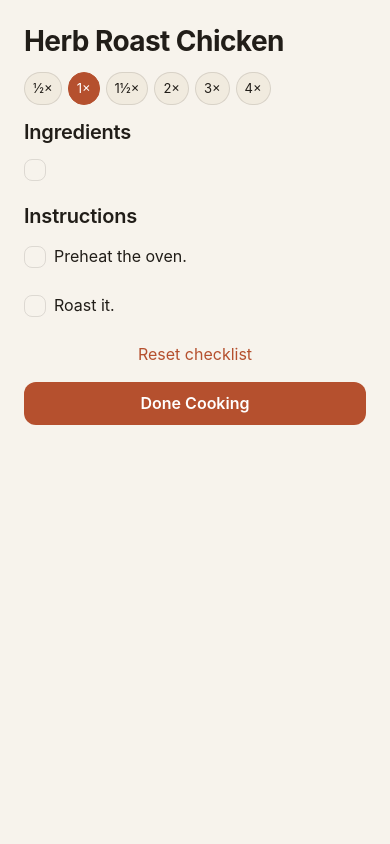
CookingModeScreen › Done Cooking › tapping Done Cooking opens the confirmation sheet rather than completing immediately
The image size is (390, 844).
Click the button with test id "cooking-mode-done-button".
click(195, 404)  # box [24,382,366,425]
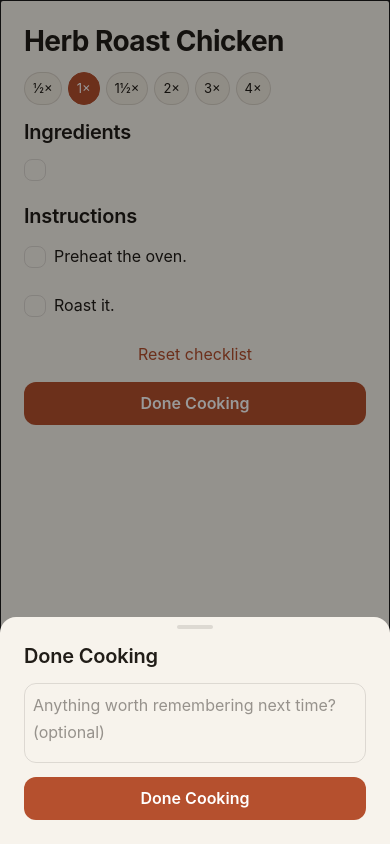
Now the dialog with test id "done-cooking-sheet" is shown
